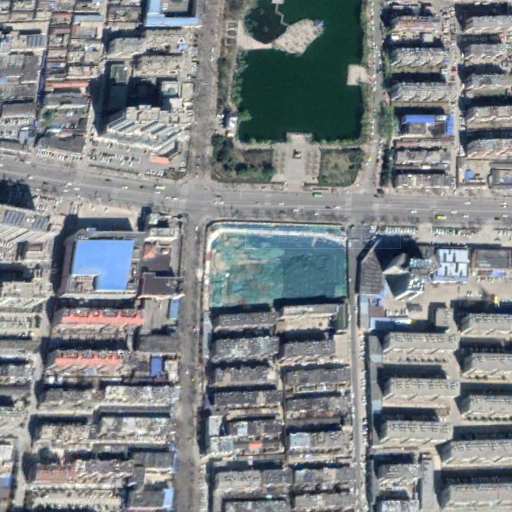cw: (205, 223, 350, 314)
